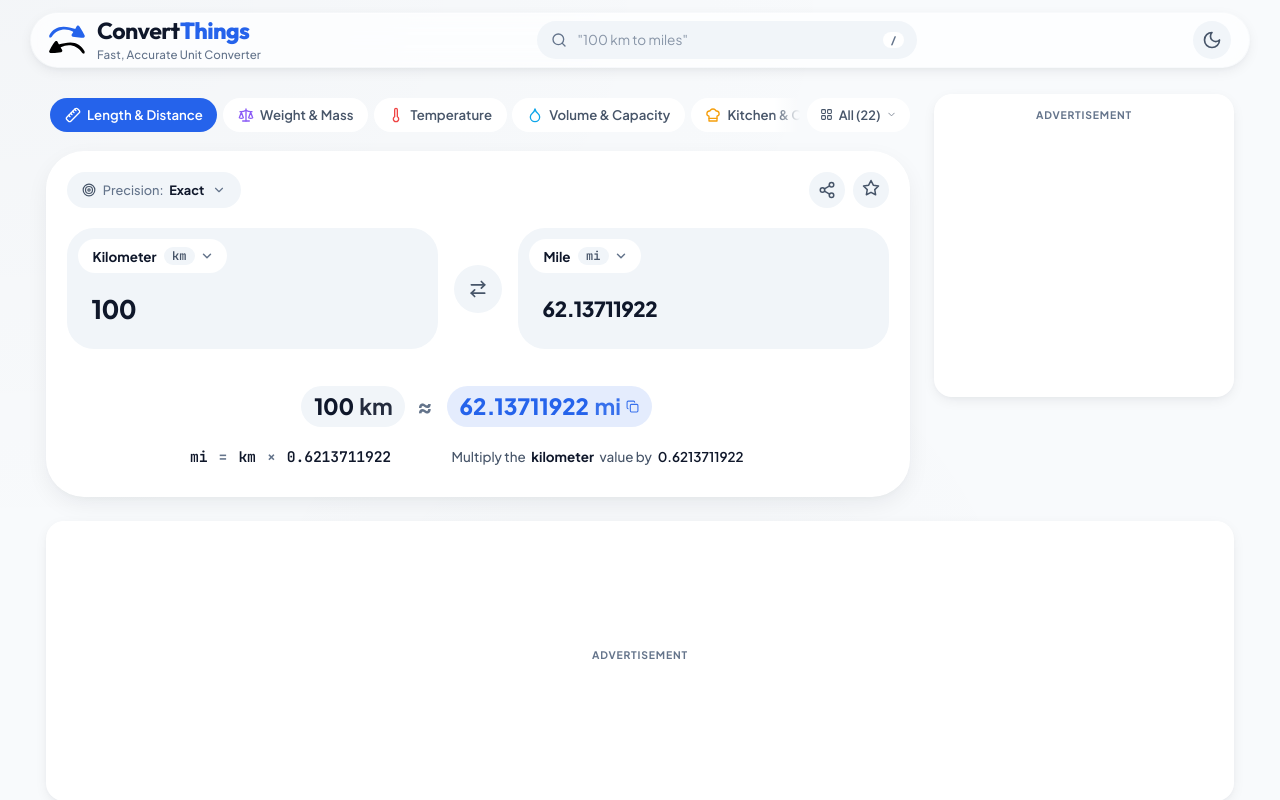
Test: Dual-Tier Memory System (In-Session & Cross-Session Persistence) › share button copies current URL including ?p= parameter when precision is non-default
This screenshot has width=1280, height=800.
Click the button named "Share conversion link" at (827, 190), box [809,172,845,208]
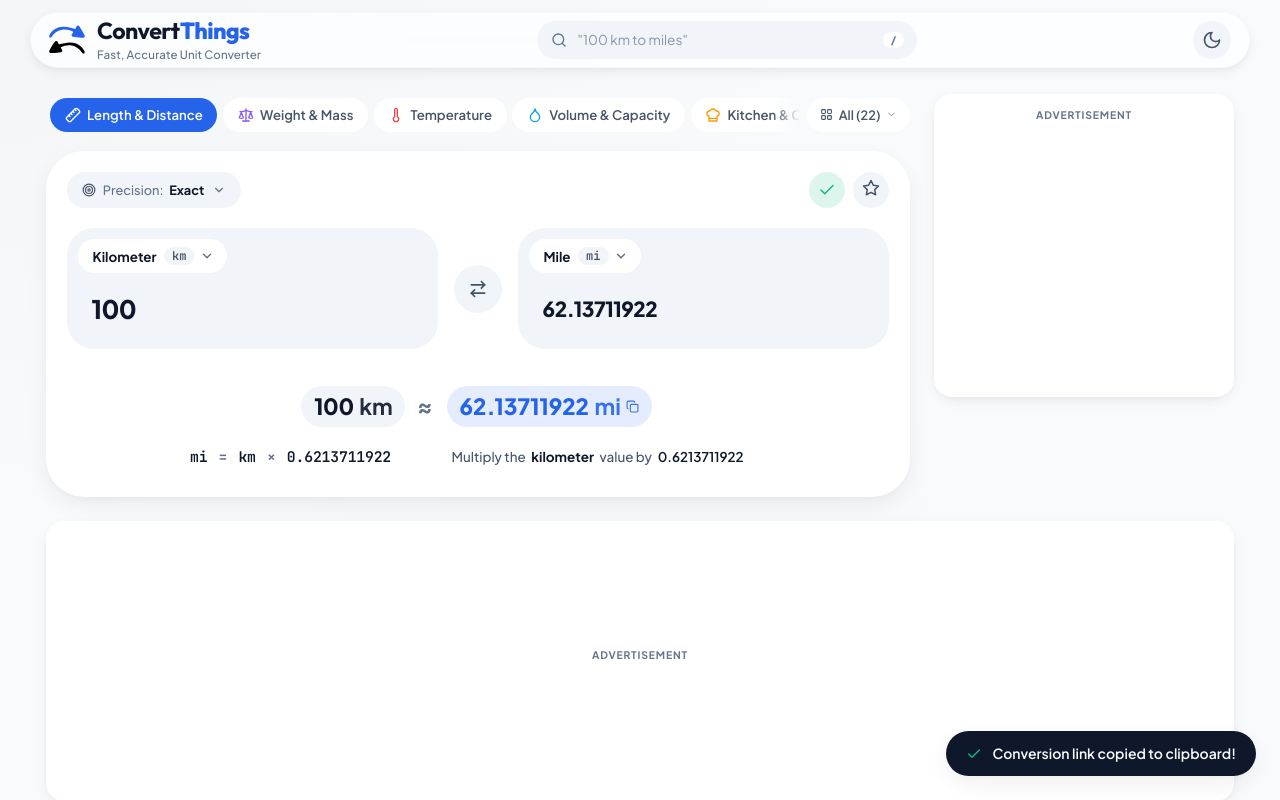
Check: the text "Conversion link copied to clipboard!" is shown, box [992,743,1236,764]
